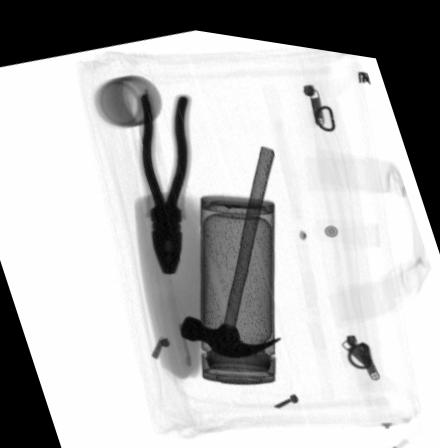Hammer: (179, 137, 281, 351)
Pliers: (135, 86, 192, 271)
